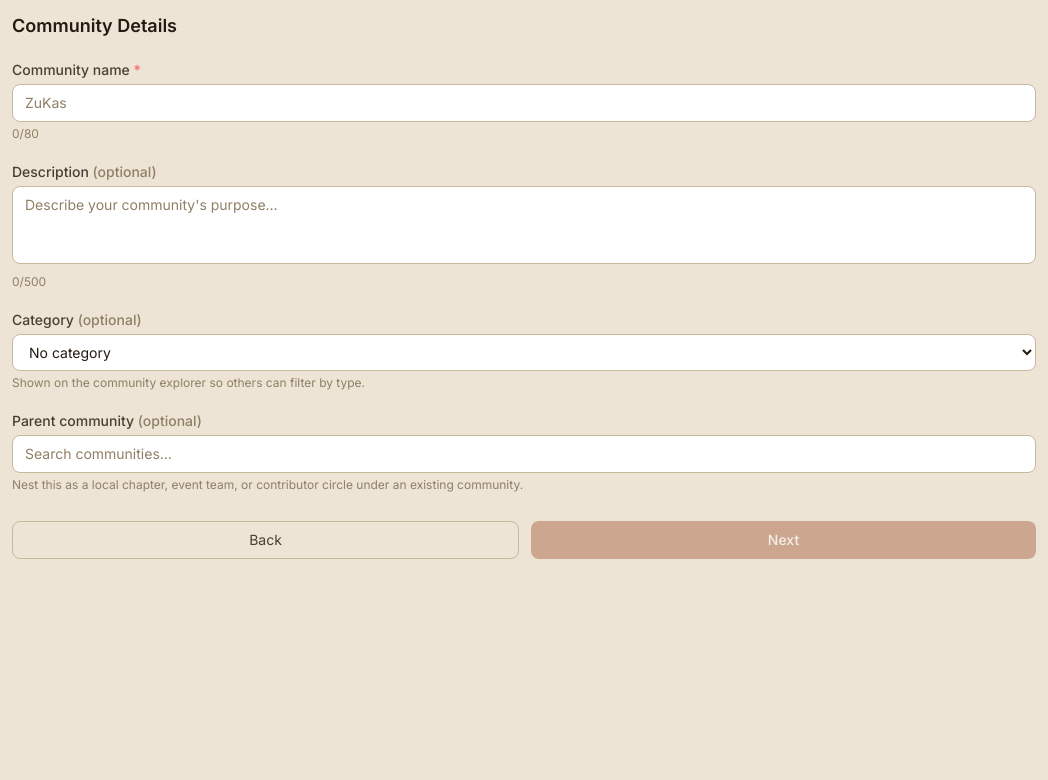
Test: StepCommunityInfo — parent combobox › shows a clear 'no matching communities' message on a zero-result search, not a blank list
Focus the field with placeholder "Search communities…" at (524, 454), box [12,435,1036,473]
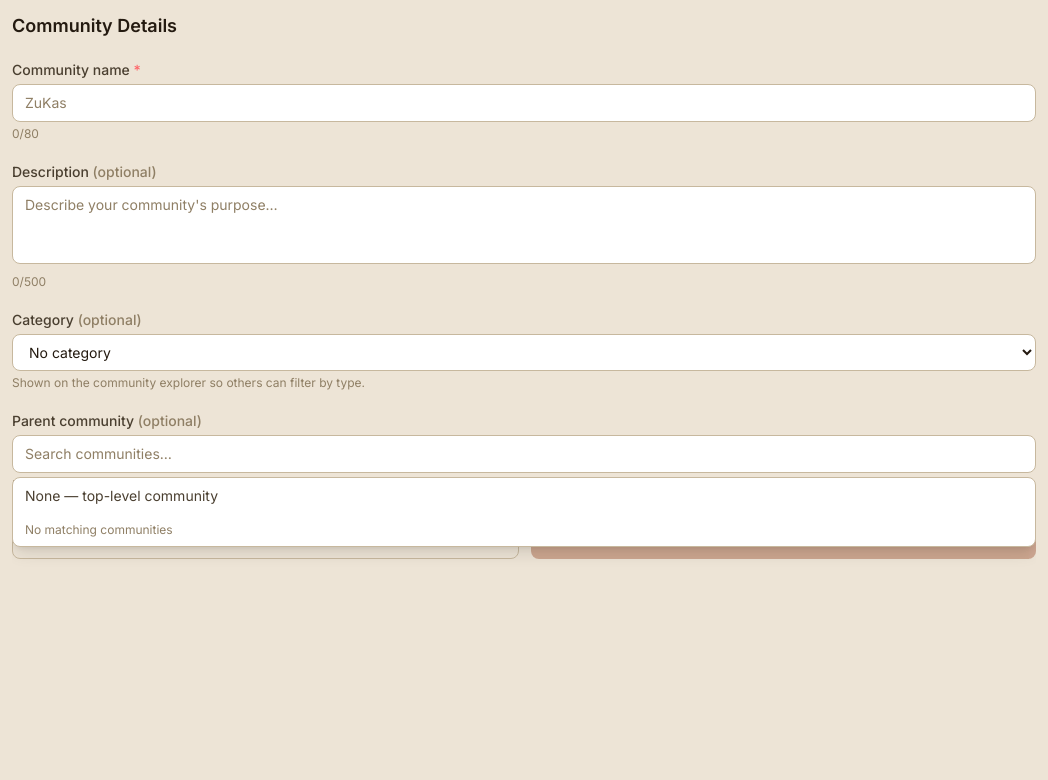
Expected: the text "No matching communities" is shown, [25,522,173,537]
